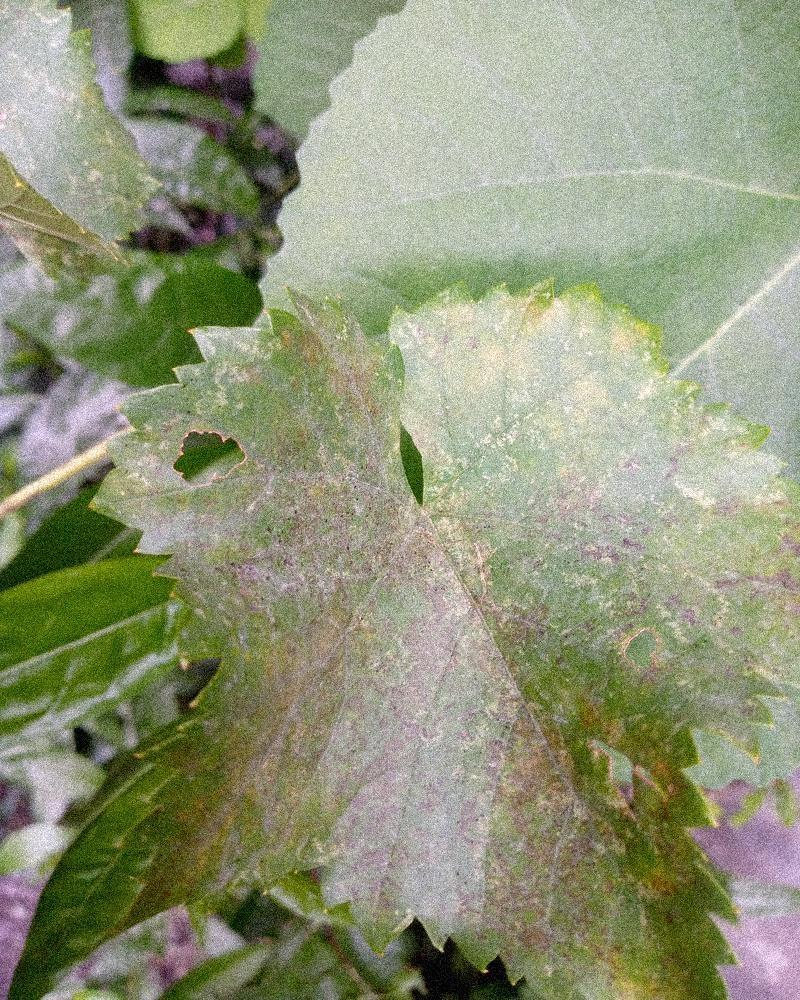Powdery-Mildew: (437, 298, 758, 543), (355, 527, 505, 678), (328, 784, 491, 921), (215, 487, 337, 606), (138, 491, 201, 554)
